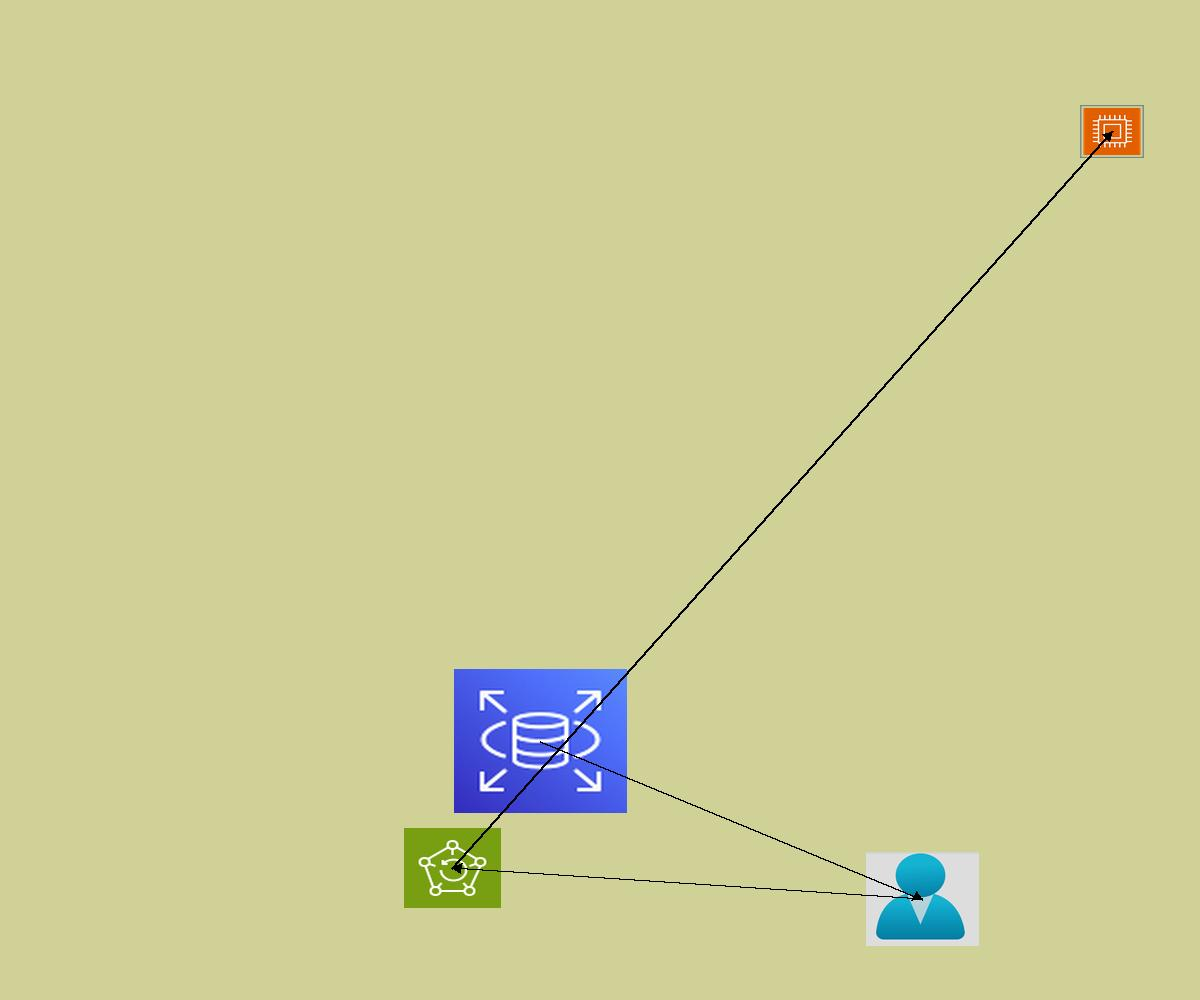AWS-Backup: (404, 828, 501, 908)
AWS-Category_Compute: (1080, 105, 1144, 158)
AWS-RDS: (454, 669, 627, 813)
Azure_users: (866, 852, 979, 946)
